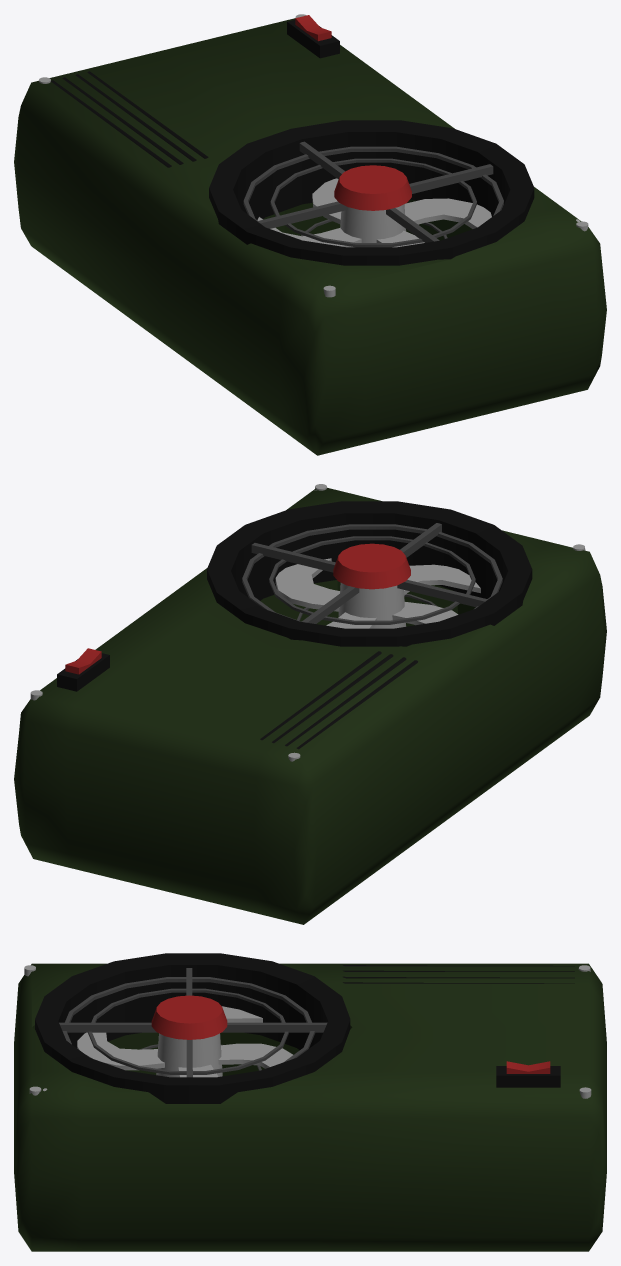
File: stage4 hitter.fbx
3 views of the same model, one above another, from view 1: azimuth 30°, elevation 25°; view 2: azimuth 150°, elevation 25°; view 3: azimuth 270°, elevation 25° (orthographic). The views are drawn at different scales.
Visible parts, largest first — view 1: Object004; view 2: Object004; view 3: Object004.
Part boxes in pixels (left/top/right/bottom): Object004: left=14, top=14, right=606, bottom=455; Object004: left=14, top=484, right=606, bottom=924; Object004: left=14, top=953, right=606, bottom=1251.
Size of the model in its own units: 49.98 by 87.72 by 29.15.
